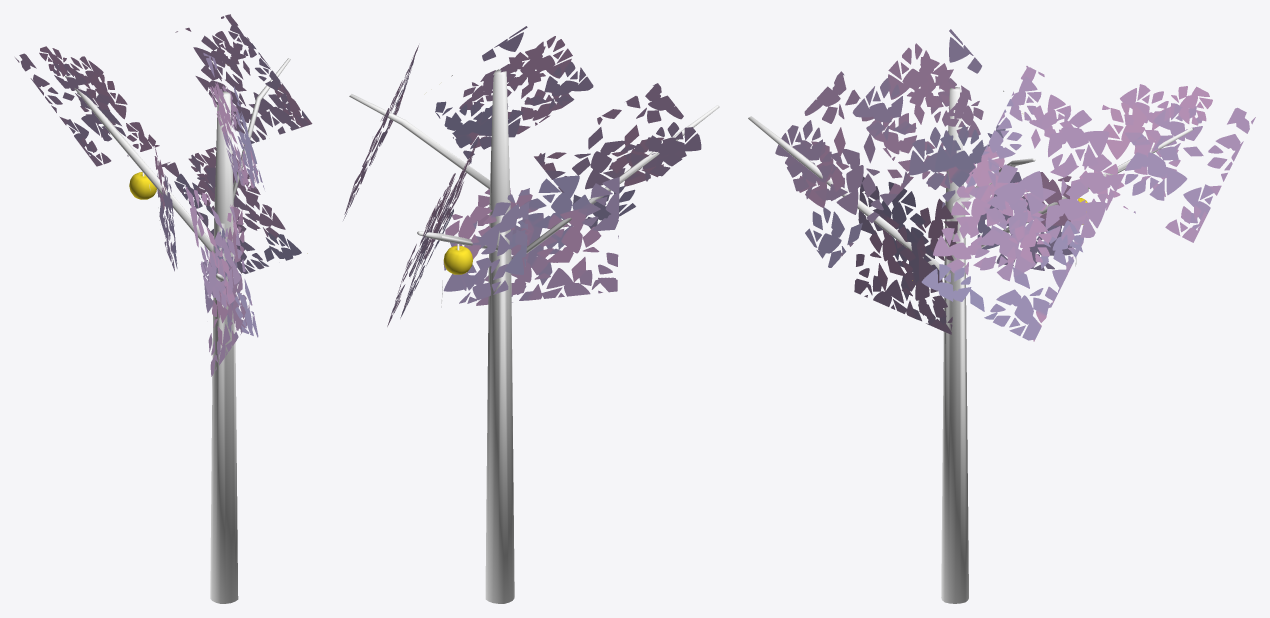
The model's file is Tree.obj.
3 renders of one model, left to right at view 1: azimuth 30°, elevation 25°; view 2: azimuth 150°, elevation 25°; view 3: azimuth 270°, elevation 25°, orthographic. The views are drawn at different scales.
Parts seen in each view (by area): view 1: Cube; view 2: Cube; view 3: Cube.
Part boxes in pixels (x1,y1,x2,y2): Cube: (15,14,312,603); Cube: (343,26,719,603); Cube: (748,29,1255,603).
Size of the model in its own units: 56.53 by 141 by 114.
1 material, 1 textured.
